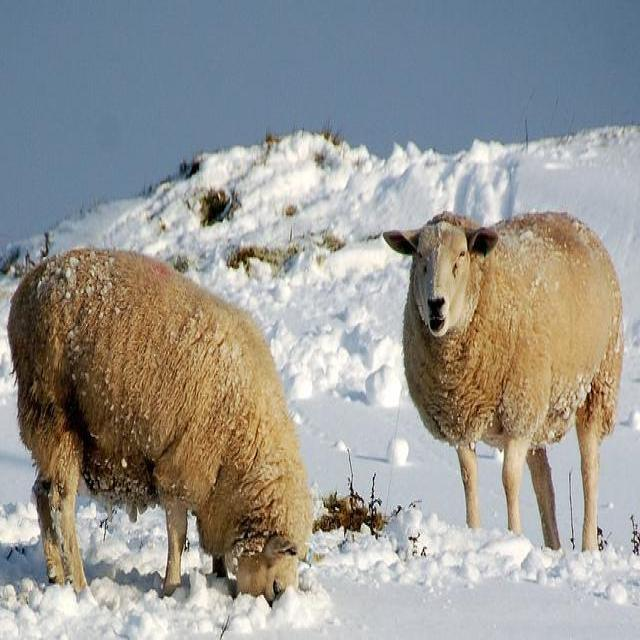Sheep: (7, 254, 325, 607), (387, 212, 621, 554)
